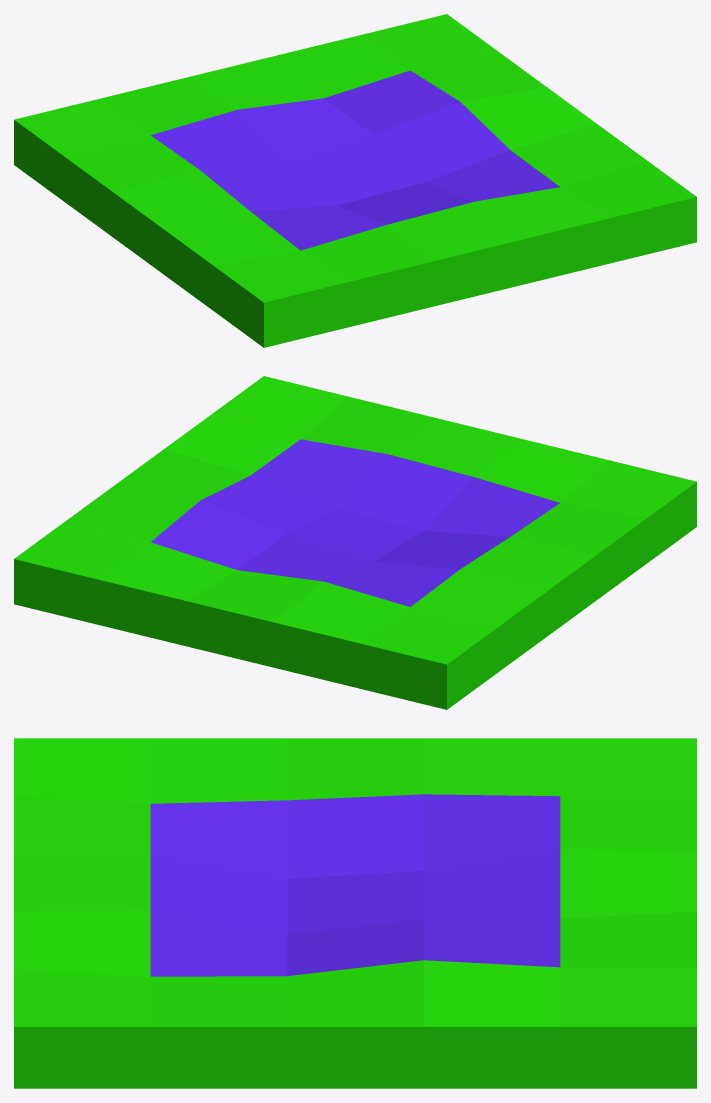
File: newRiviere.fbx
3 renders of one model, top to bottom at view 1: azimuth 30°, elevation 25°; view 2: azimuth 150°, elevation 25°; view 3: azimuth 270°, elevation 25°, orthographic. The views are drawn at different scales.
Parts seen in each view (by area): view 1: Cube; view 2: Cube; view 3: Cube.
Boxes of the visible parts, x1,y1,x2,y2 form: Cube: (14,14,696,347); Cube: (14,376,696,709); Cube: (14,738,696,1088).
Size of the model in its own units: 200 by 22.87 by 200.
